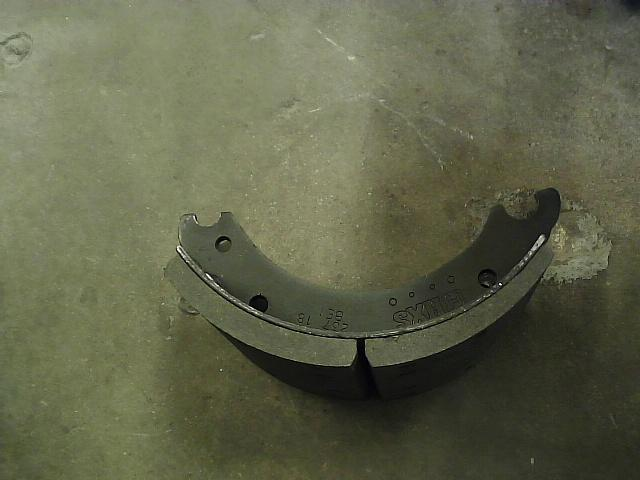brake-shoes: (162, 186, 564, 410)
